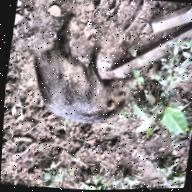boar: (15, 11, 156, 152)
